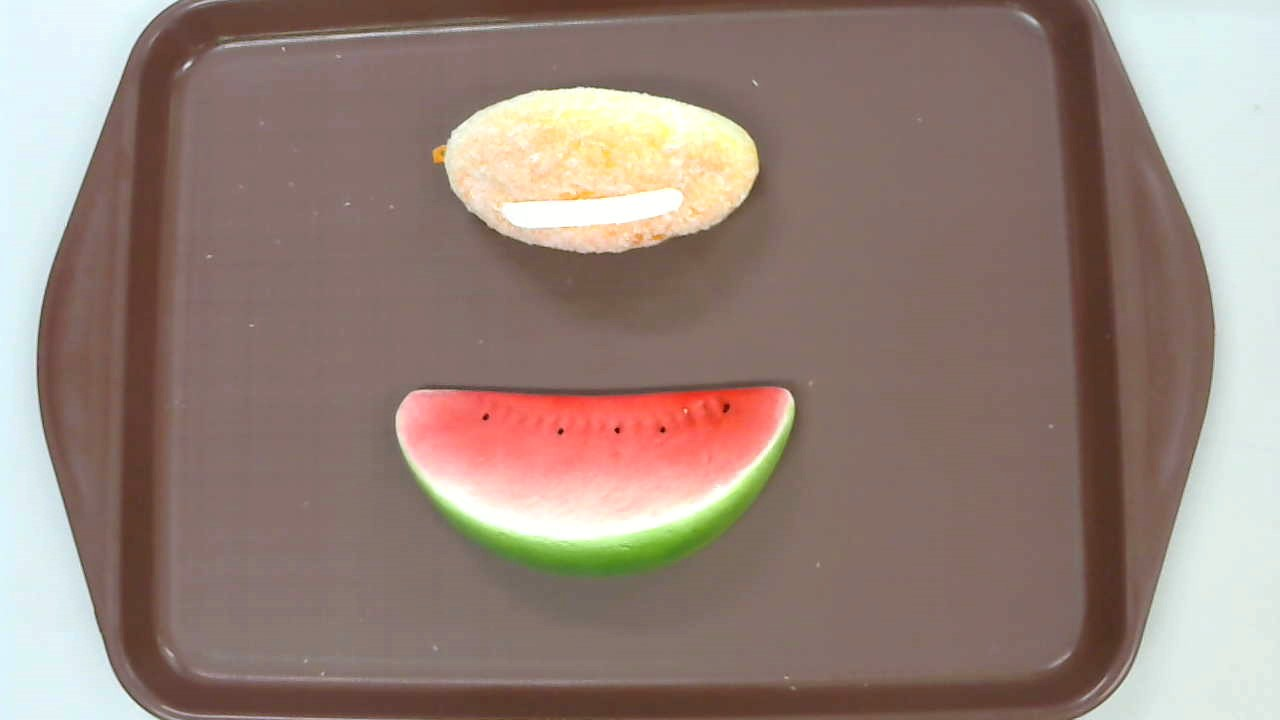coconut: (430, 87, 759, 253)
water melon: (393, 386, 796, 572)
